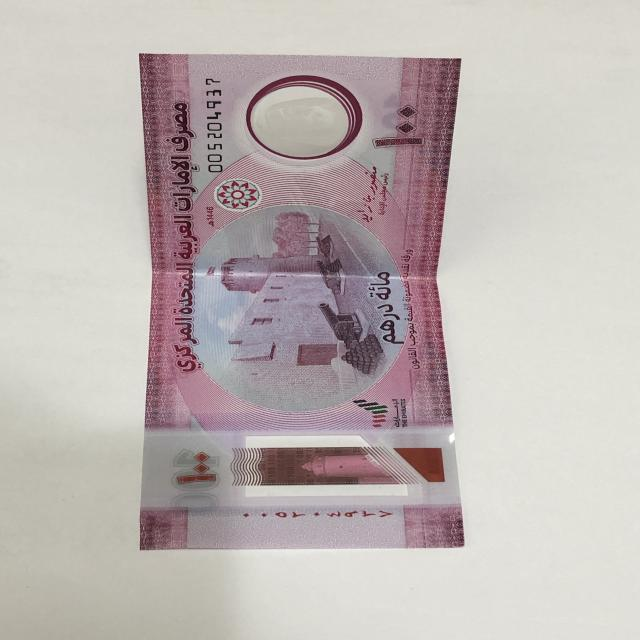100_AED: (136, 49, 473, 551)
